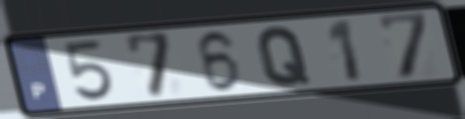1: (322, 17, 364, 85)
5: (60, 38, 117, 103)
6: (195, 29, 245, 93)
7: (376, 10, 433, 81), (121, 31, 177, 102)
Q: (254, 24, 313, 88)
